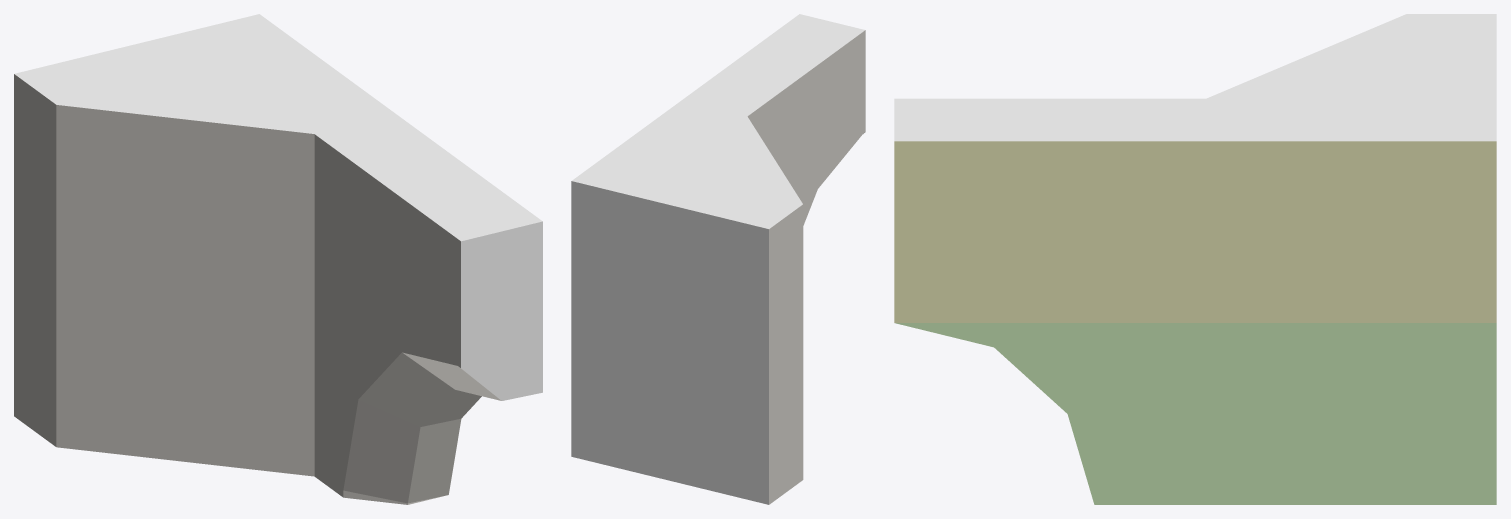
The model's file is Cave_Edge_Esse_Top_3x4.glb.
3 renders of one model, left to right at view 1: azimuth 30°, elevation 25°; view 2: azimuth 150°, elevation 25°; view 3: azimuth 270°, elevation 25°, orthographic. The views are drawn at different scales.
Parts seen in each view (by area): view 1: Cave_Edge_Esse_Top_3x4; view 2: Cave_Edge_Esse_Top_3x4; view 3: Cave_Edge_Esse_Top_3x4.
Part boxes in pixels (x1,y1,x2,y2): Cave_Edge_Esse_Top_3x4: [14, 14, 542, 504]; Cave_Edge_Esse_Top_3x4: [571, 14, 865, 504]; Cave_Edge_Esse_Top_3x4: [894, 14, 1496, 504].
Size of the model in its own units: 150 by 200 by 300.
